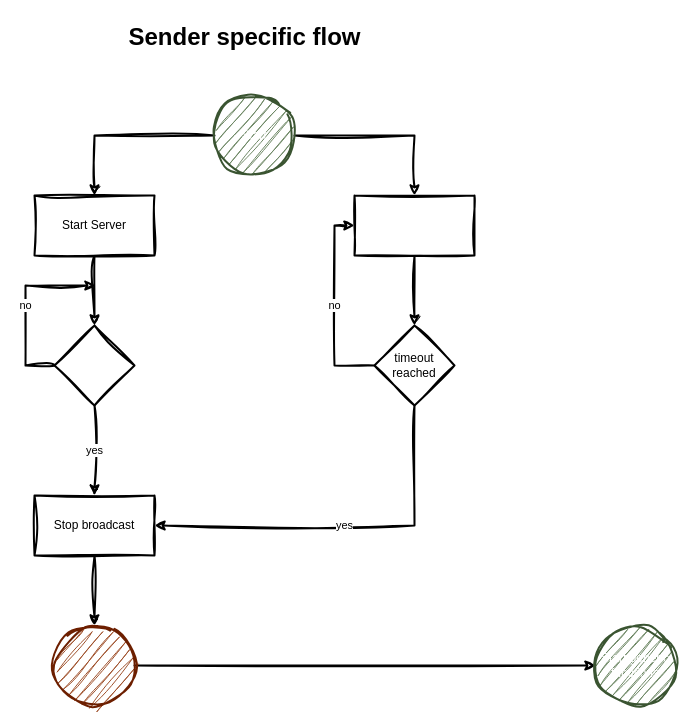
The diagram is 693 pixels wide and 723 high, and some of its shapes have lost their labels. Each missing label, with the centre of its shape:
"broadcast" goes at [414,225].
"Connection made" goes at [94,365].
"End sender specific functions" goes at [94,665].
